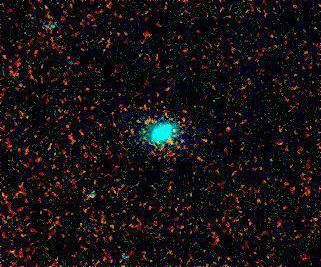star: (158, 128, 188, 158)
